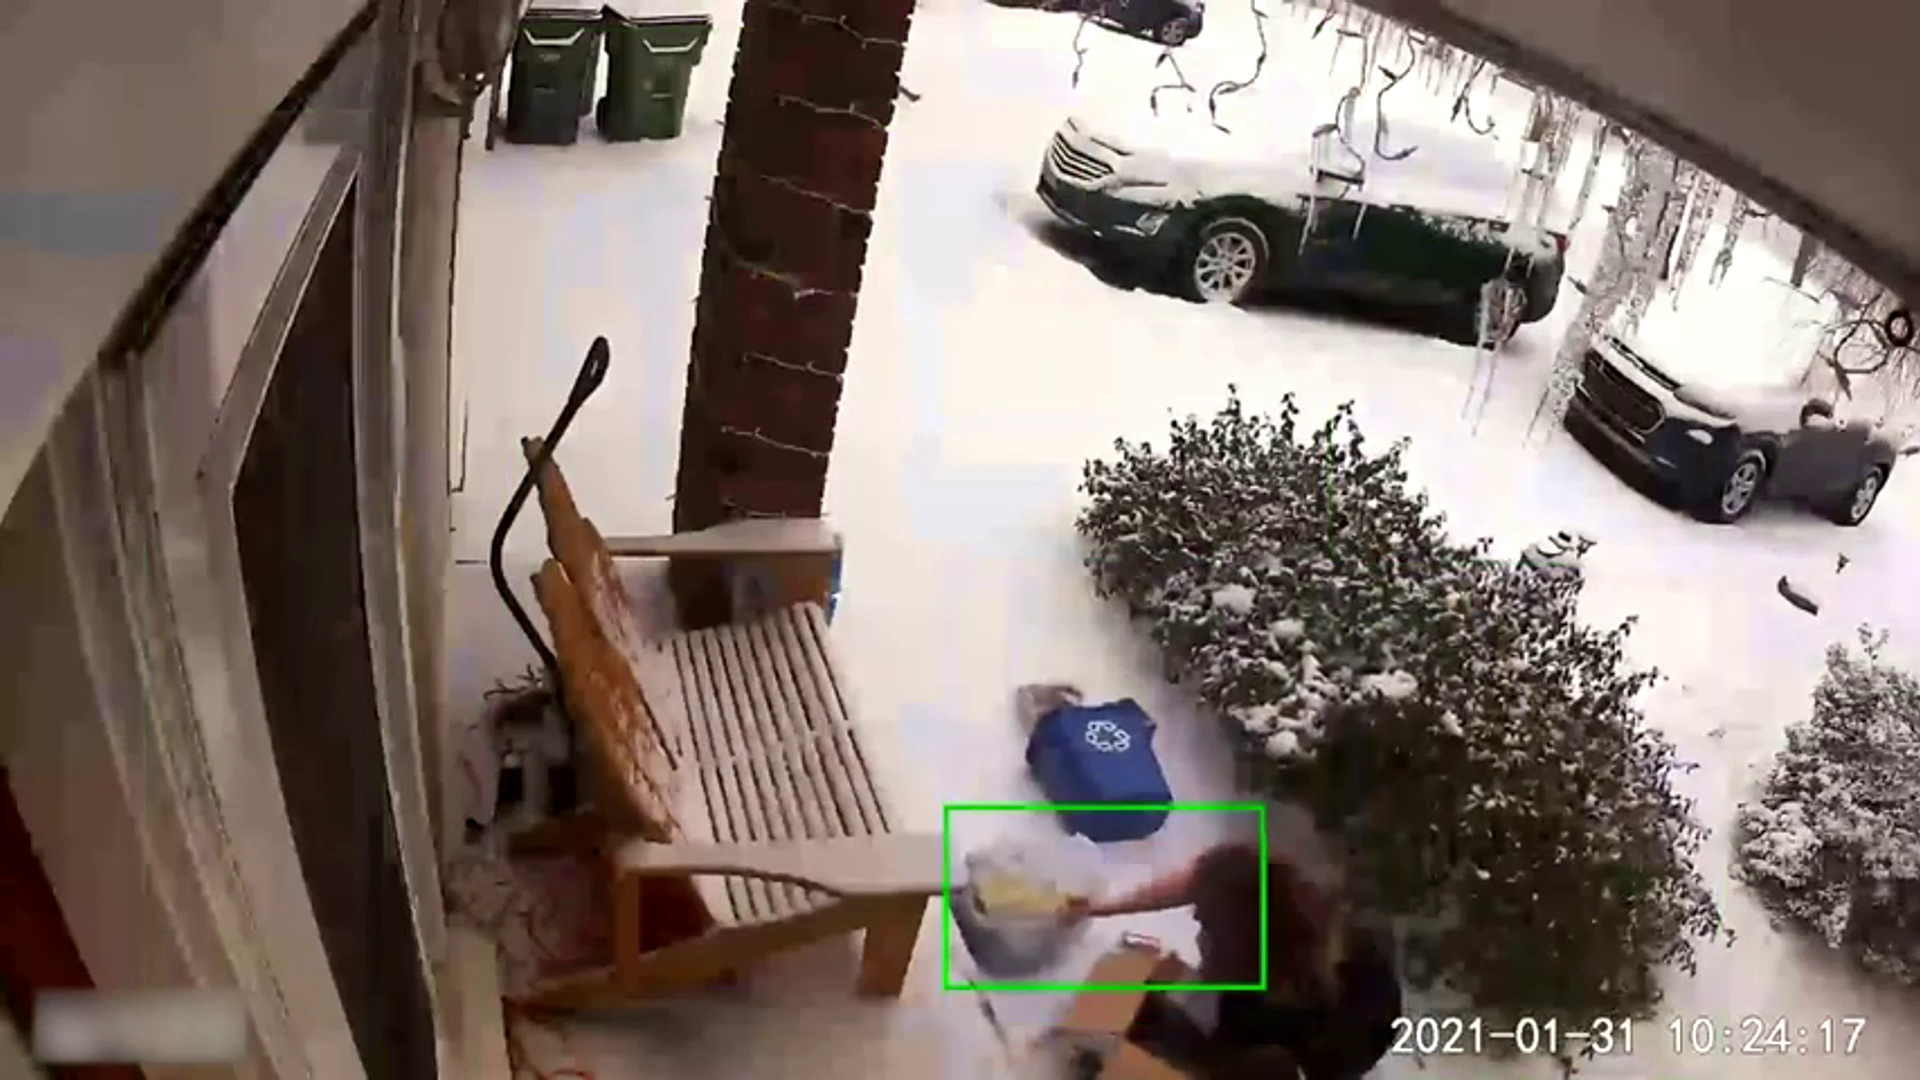fall: (951, 794, 1435, 1080)
